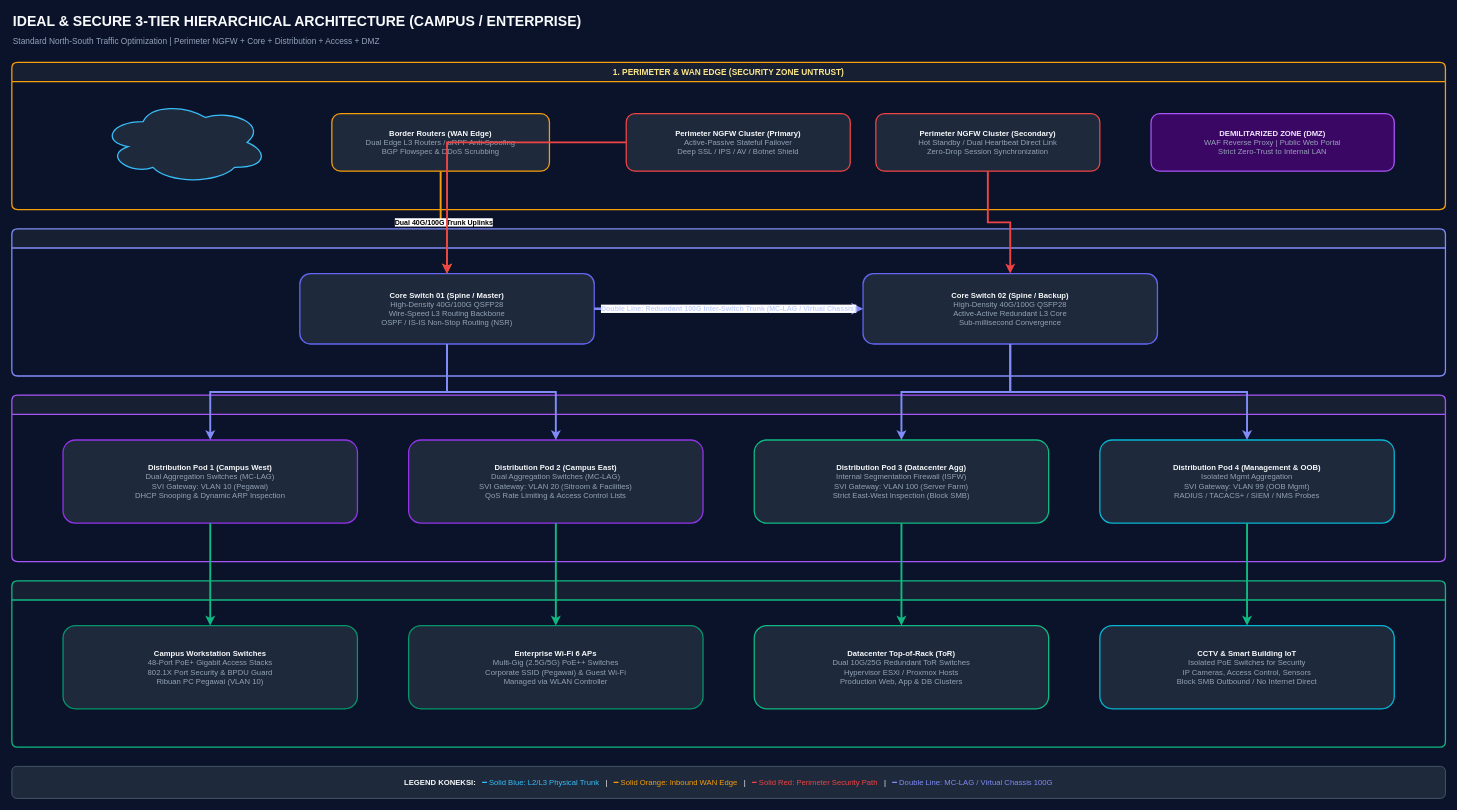
The diagram is 1457 pixels wide and 810 high, and some of its shapes have lost their labels. Here are the shapes that lost their labels. From the top down, the box of each, then its label:
(100, 100, 268, 184): Public Internet & ISPs Dual Multi-Homing ISP Transit eBGP Peering / BFD
(11, 228, 1446, 376): 2. CORE LAYER (ULTRA HIGH-SPEED NON-BLOCKING BACKBONE)
(11, 394, 1446, 562): 3. DISTRIBUTION LAYER (POLICY ENFORCEMENT, SVI / DEFAULT GATEWAYS & AGGREGATION)
(11, 580, 1446, 748): 4. ACCESS LAYER (EDGE SWITCHES, POE+, WI-FI 6 APs & END USER TERMINALS)
